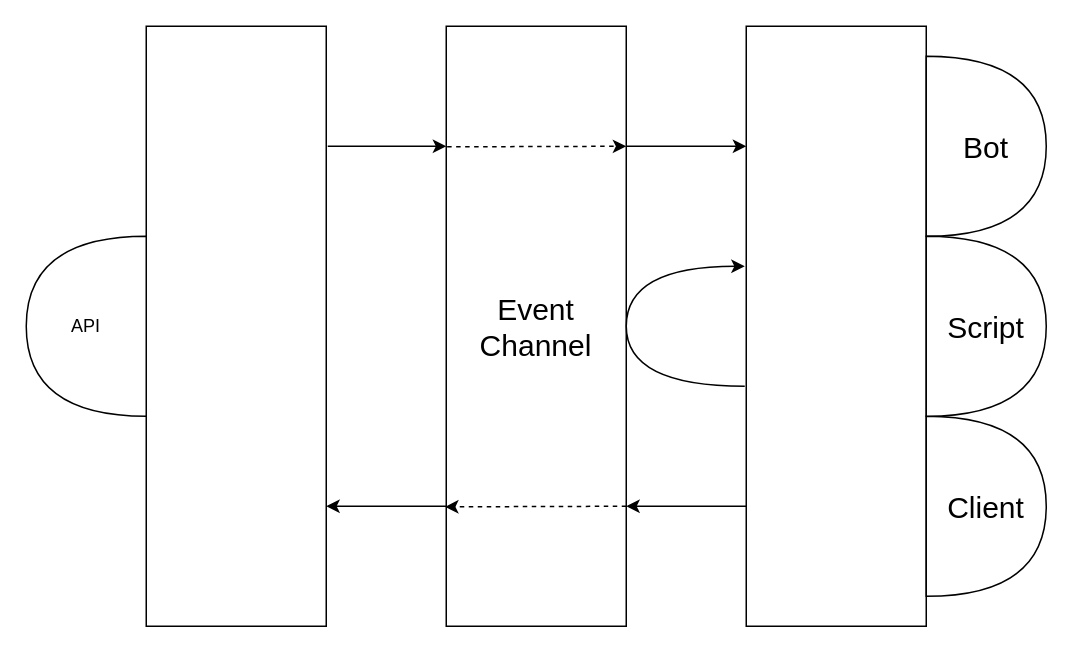
Image size: 1073x653. Some labels were removed from this diagram. Here are the shapes that lost their labels. From the top down, the box of each, then its label:
(145, 25, 326, 626): Application
(745, 25, 926, 626): Utilisateurs
